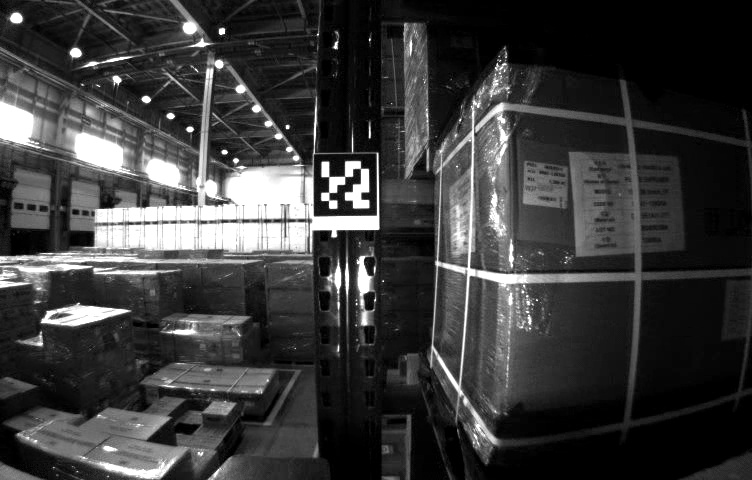True Barcode: (522, 163, 567, 213)
